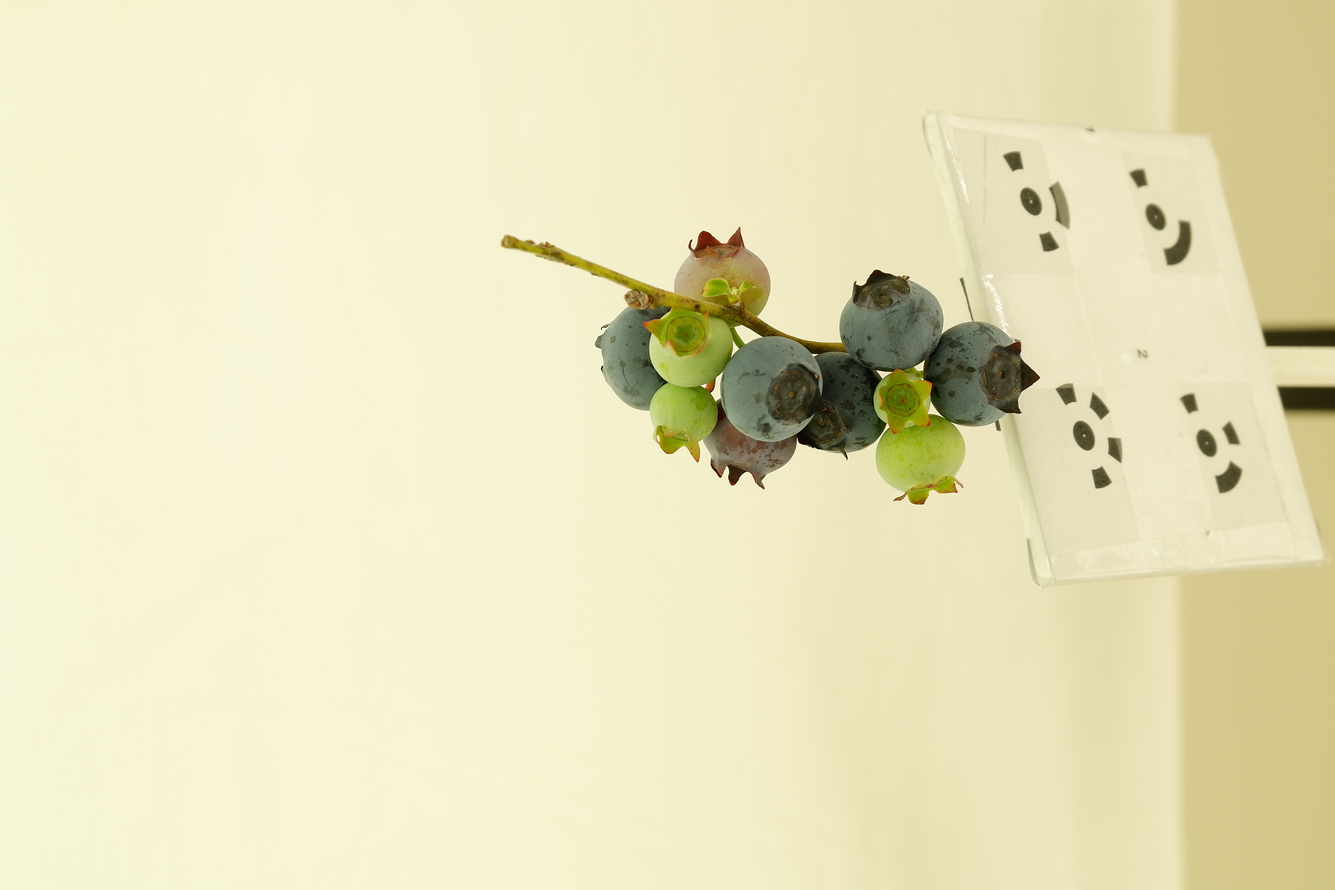Immature: (673, 228, 770, 329), (875, 414, 965, 502), (707, 400, 796, 483), (650, 311, 730, 385), (649, 385, 718, 462), (874, 371, 930, 435)
Mature: (924, 323, 1029, 425), (720, 339, 823, 438), (842, 273, 942, 369), (798, 353, 887, 453), (597, 308, 667, 409)
